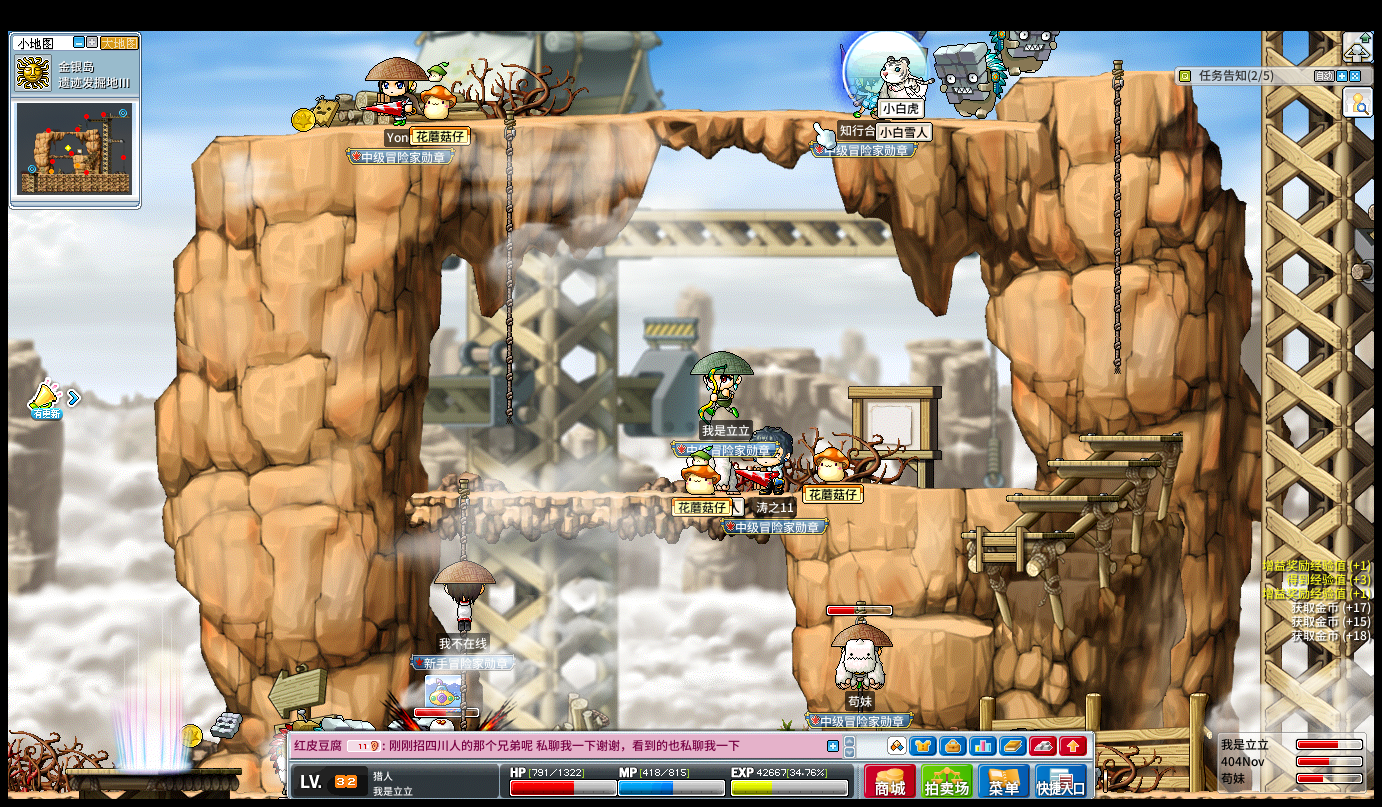floor: (204, 105, 1062, 141), (414, 490, 800, 501), (888, 615, 993, 636), (882, 481, 1043, 494), (1028, 68, 1178, 80), (1023, 71, 1181, 82), (880, 485, 1043, 495), (1077, 429, 1182, 443), (1077, 433, 1184, 446), (959, 530, 1072, 539), (1041, 458, 1153, 467), (1045, 457, 1155, 466), (1008, 494, 1119, 501)
monster: (932, 41, 1003, 122)
rope: (1109, 58, 1124, 383), (502, 107, 514, 436), (451, 477, 467, 561)
